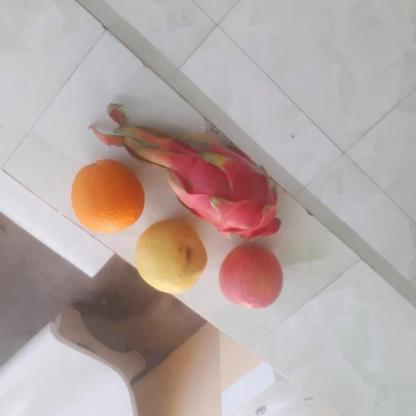apple: (218, 246, 285, 310)
orange: (70, 160, 146, 233)
pear: (132, 218, 211, 292)
pitaya: (176, 149, 286, 238)
